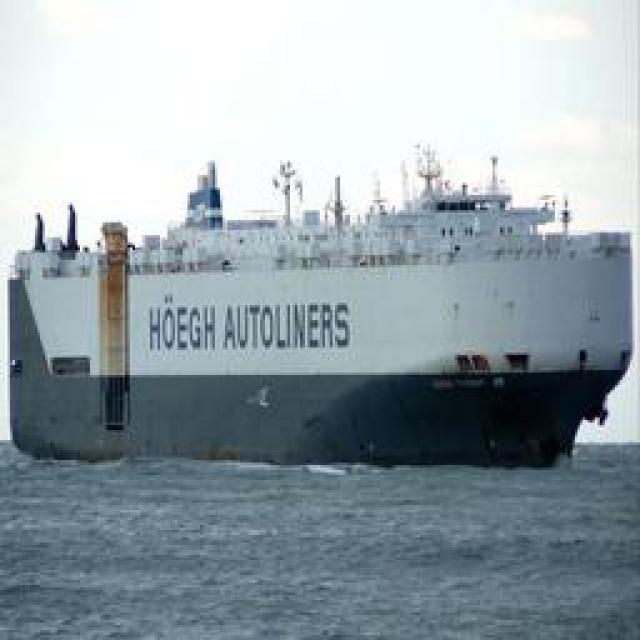Ship: (10, 131, 633, 479)
